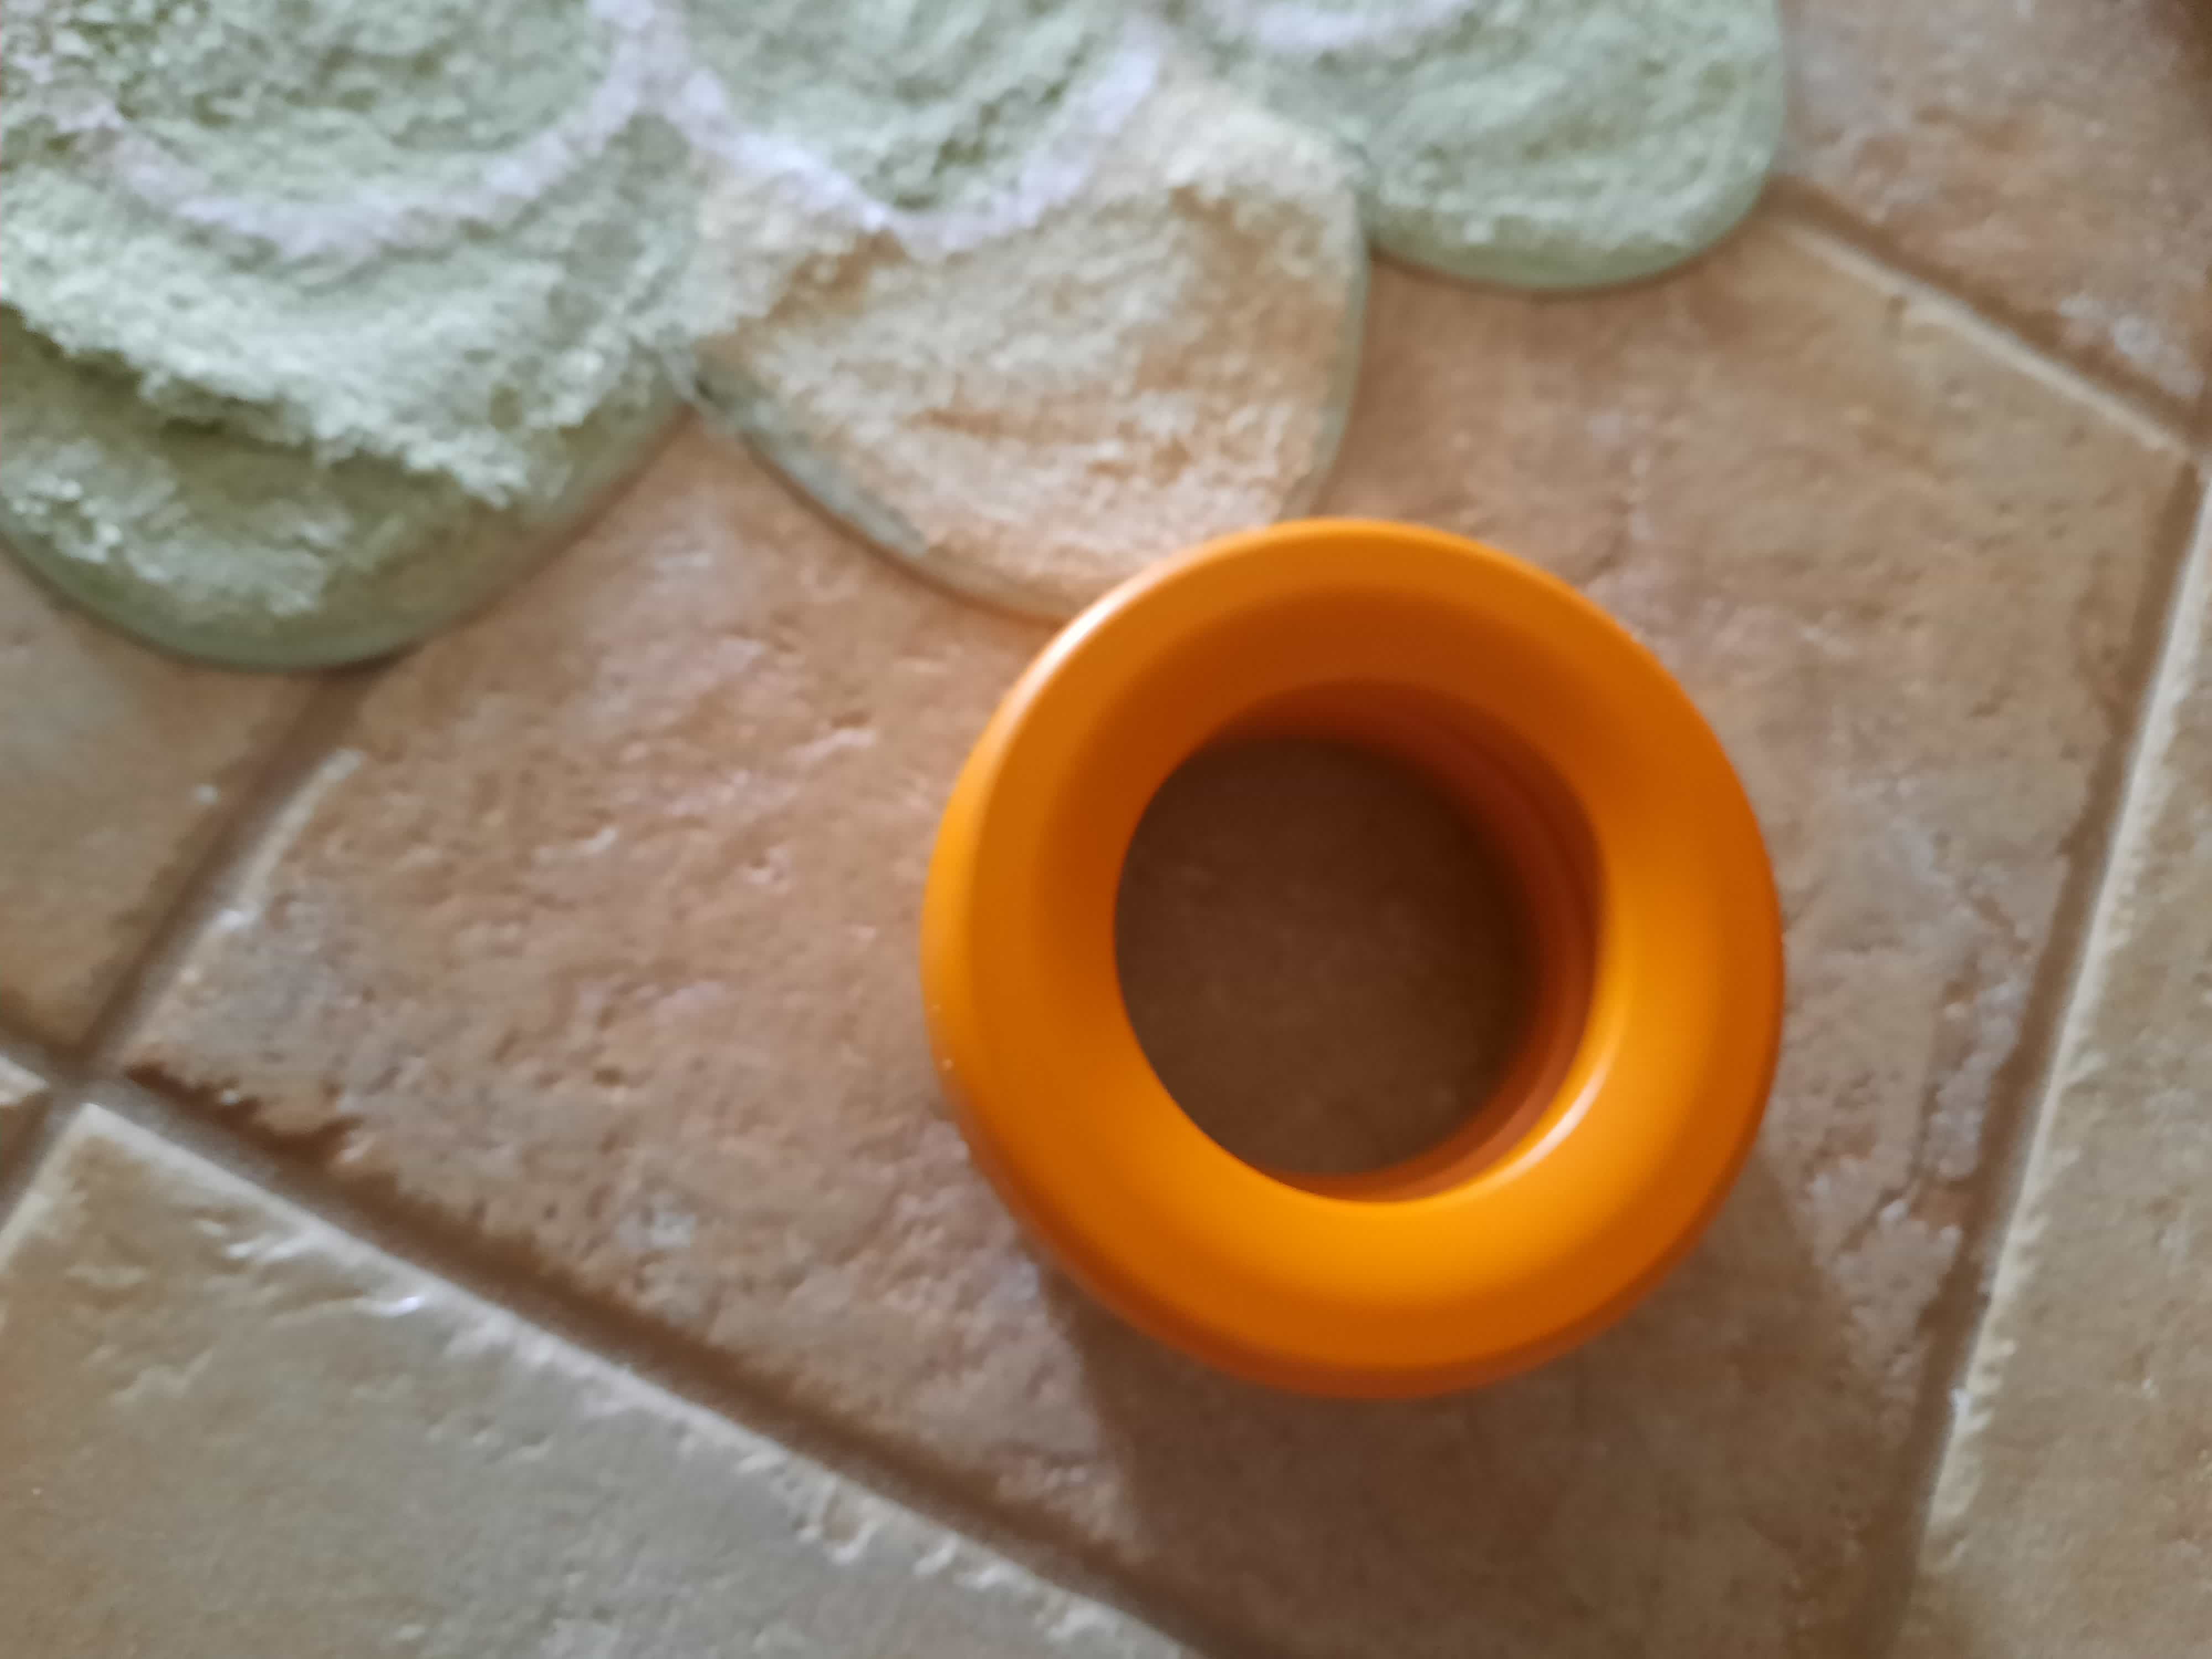FourStack: (937, 525, 1791, 1384)
